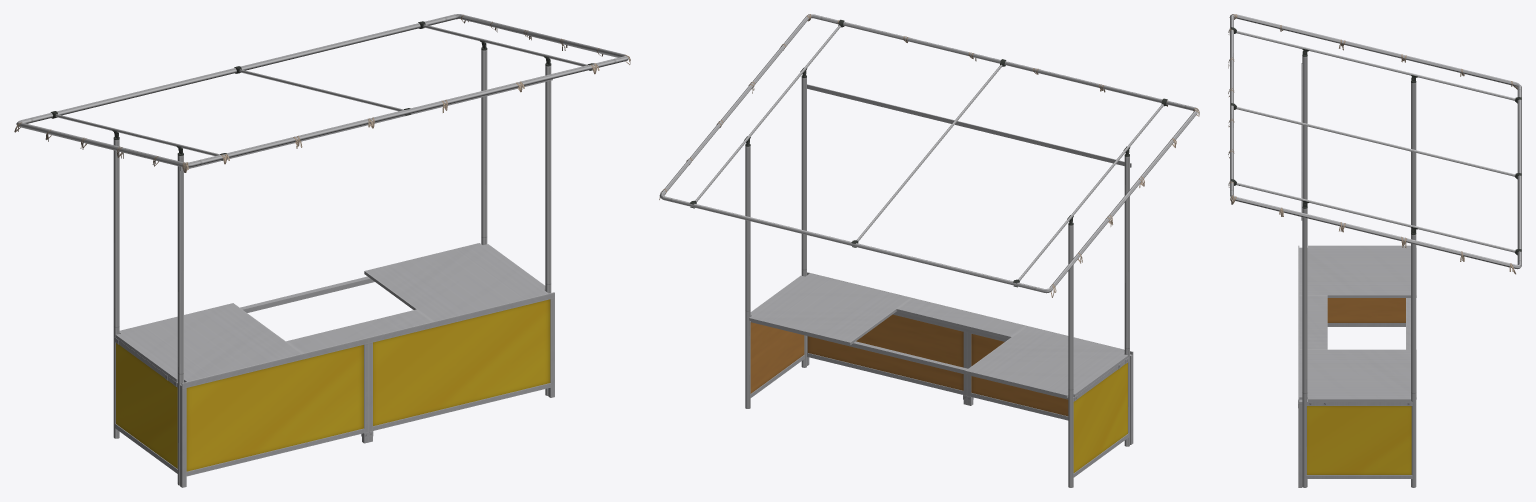
The model's file is jsf_4P_s03_c03_t02.fbx.
The picture shows the model from 3 angles, left to right: view 1: azimuth 30°, elevation 25°; view 2: azimuth 150°, elevation 25°; view 3: azimuth 270°, elevation 25°; orthographic projection. The views are drawn at different scales.
Visible parts, largest first — view 1: Base_s03_c03, Table_4P_s03_t02, Pillar4_s03, Rope_4P_s03; view 2: Base_s03_c03, Table_4P_s03_t02, Pillar4_s03; view 3: Table_4P_s03_t02, Pillar4_s03, Base_s03_c03, Rope_4P_s03.
Boxes of the visible parts, <box> form: Base_s03_c03: <box>114,292,554,487</box>; Table_4P_s03_t02: <box>115,243,548,386</box>; Pillar4_s03: <box>16,14,628,485</box>; Rope_4P_s03: <box>14,14,630,172</box>; Base_s03_c03: <box>750,272,1133,477</box>; Table_4P_s03_t02: <box>749,273,1128,400</box>; Pillar4_s03: <box>659,14,1198,487</box>; Table_4P_s03_t02: <box>1299,245,1416,405</box>; Pillar4_s03: <box>1230,14,1521,487</box>; Base_s03_c03: <box>1298,245,1412,487</box>; Rope_4P_s03: <box>1228,14,1517,274</box>.
Bounding box in the file's own units: 316 × 243 × 211.
